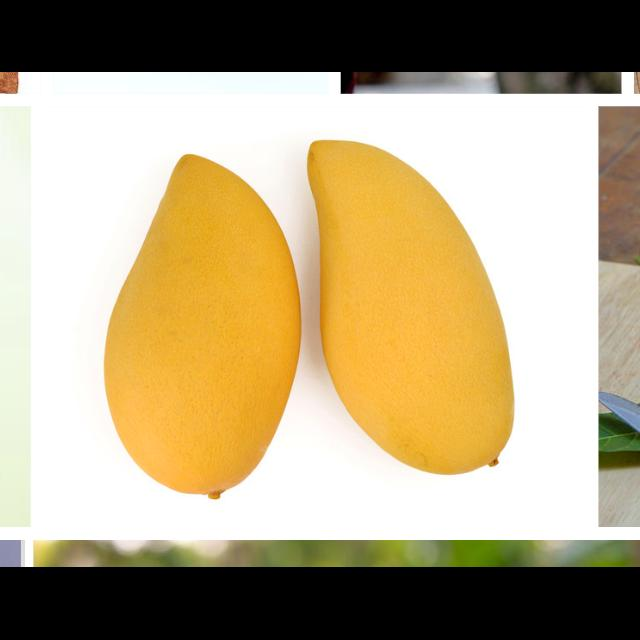mango: (99, 148, 301, 495), (305, 139, 514, 472)
